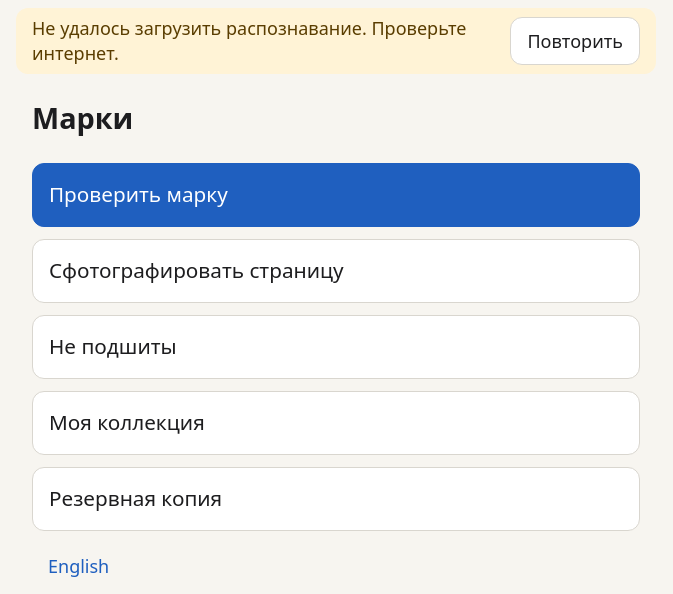
Test: first run › offers a retry when the recognition engine fails to load, and recovers
The image size is (673, 594).
Expected: the text "Не удалось загрузить распознавание. Проверьте интернет." is shown, [32,16,502,66]
Click the button "Повторить".
click(575, 41)  # box [510,17,640,65]
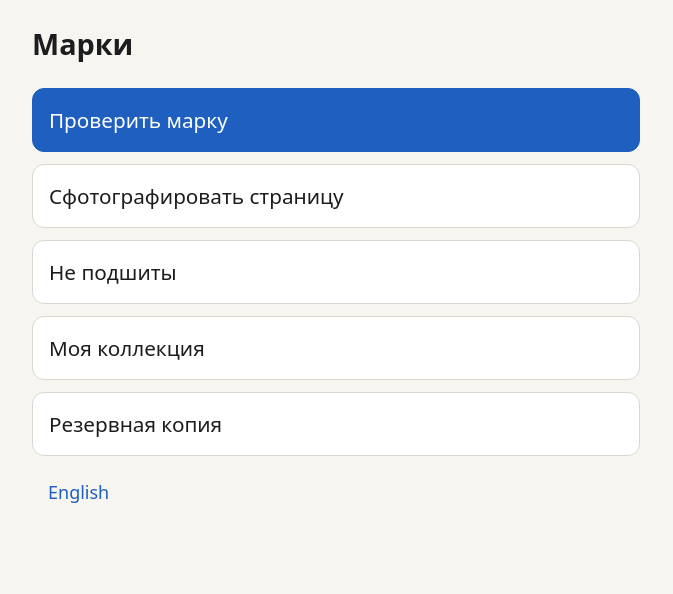
Expected: the button "Проверить марку" is shown, [32,88,640,152]
Now the text "Не удалось загрузить распознавание. Проверьте интернет." is gone
